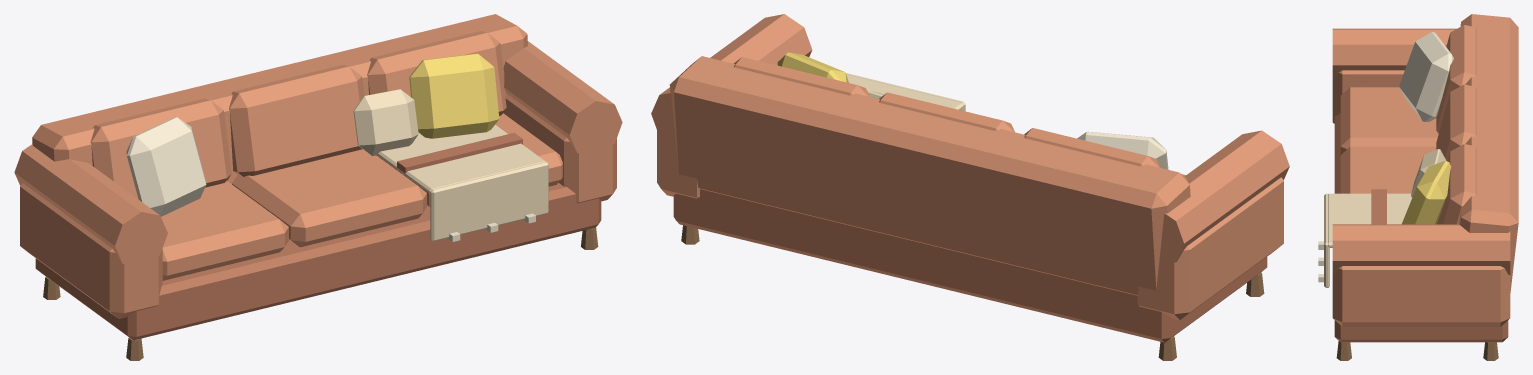
Rendered from prop_sofa_01.glb.
The picture shows the model from 3 angles, left to right: view 1: azimuth 30°, elevation 25°; view 2: azimuth 150°, elevation 25°; view 3: azimuth 270°, elevation 25°; orthographic projection. The views are drawn at different scales.
Parts seen in each view (by area): view 1: prop_sofa_01_body; view 2: prop_sofa_01_body; view 3: prop_sofa_01_body.
Boxes of the visible parts, x1,y1,x2,y2 form: prop_sofa_01_body: (14, 14, 622, 360); prop_sofa_01_body: (651, 14, 1289, 360); prop_sofa_01_body: (1318, 14, 1518, 360).
Size of the model in its own units: 2.68 by 0.8714 by 1.04.
